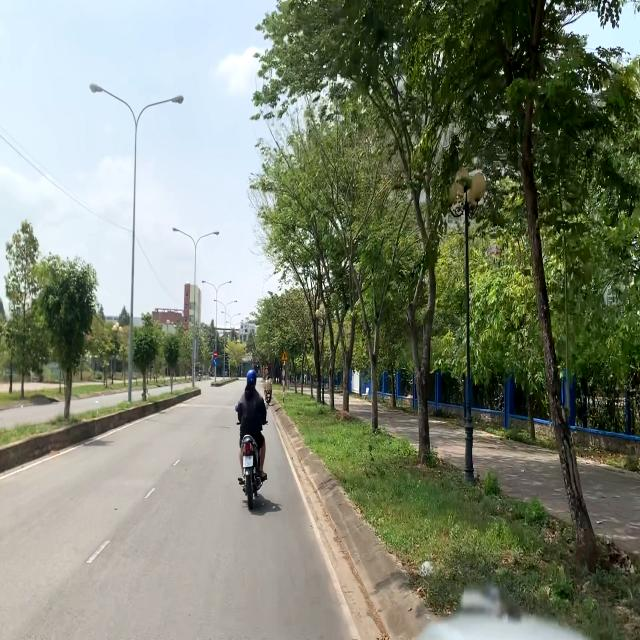P.102: (213, 350, 218, 358)
R.302a: (213, 358, 217, 366)
W.207b: (281, 350, 289, 362)
